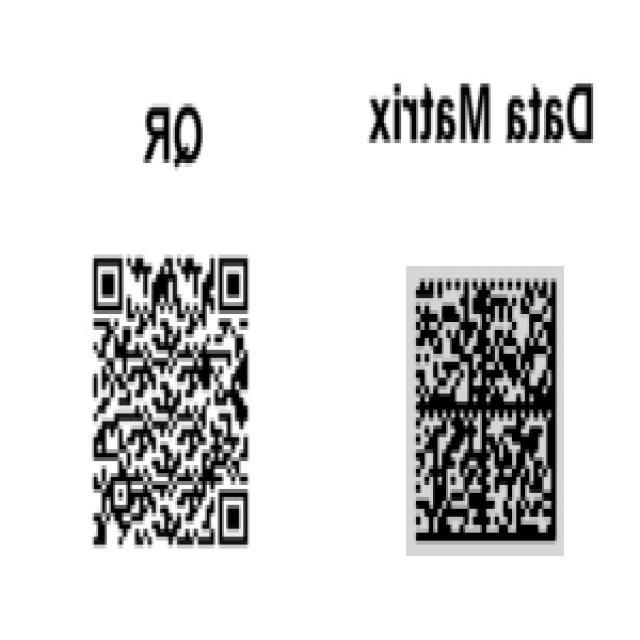Data-Matrix: (406, 267, 564, 557)
